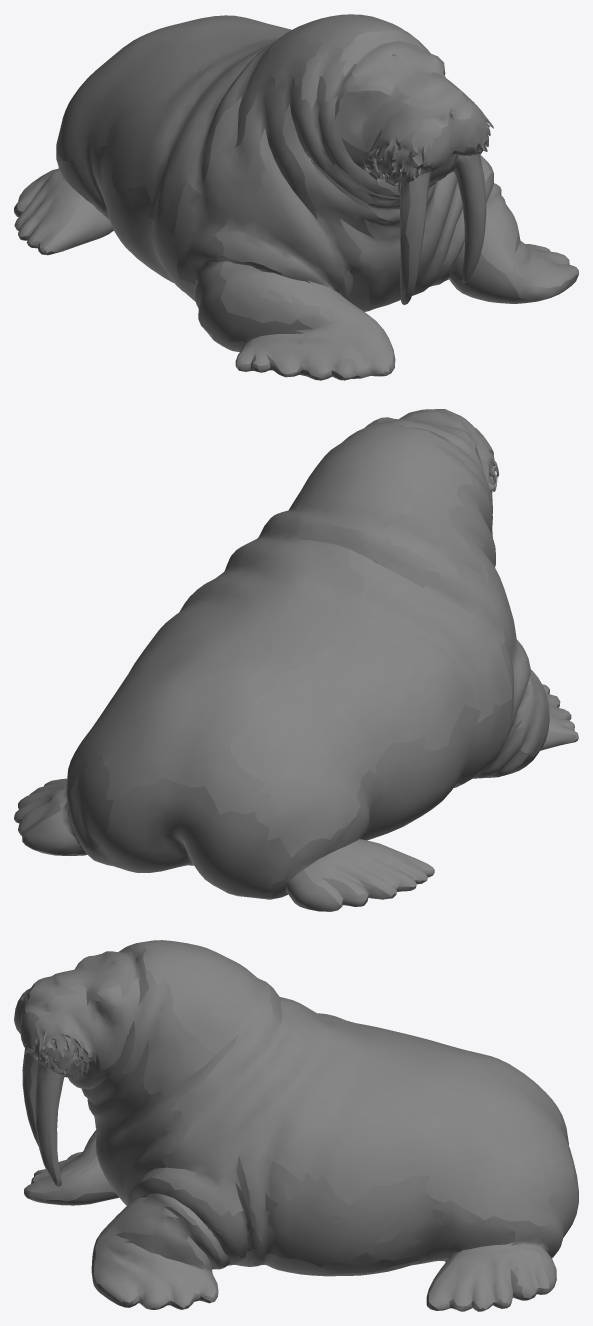
The model's file is completion_walrus_1.glb.
3 renders of one model, top to bottom at view 1: azimuth 30°, elevation 25°; view 2: azimuth 150°, elevation 25°; view 3: azimuth 270°, elevation 25°, orthographic. The views are drawn at different scales.
Visible parts, largest first — view 1: geometry_0; view 2: geometry_0; view 3: geometry_0.
Part boxes in pixels (x1,y1,x2,y2): geometry_0: (14, 14, 578, 380); geometry_0: (14, 409, 578, 911); geometry_0: (14, 940, 578, 1311).
Size of the model in its own units: 0.737 by 0.5491 by 0.9977.
1 material, 1 textured.
